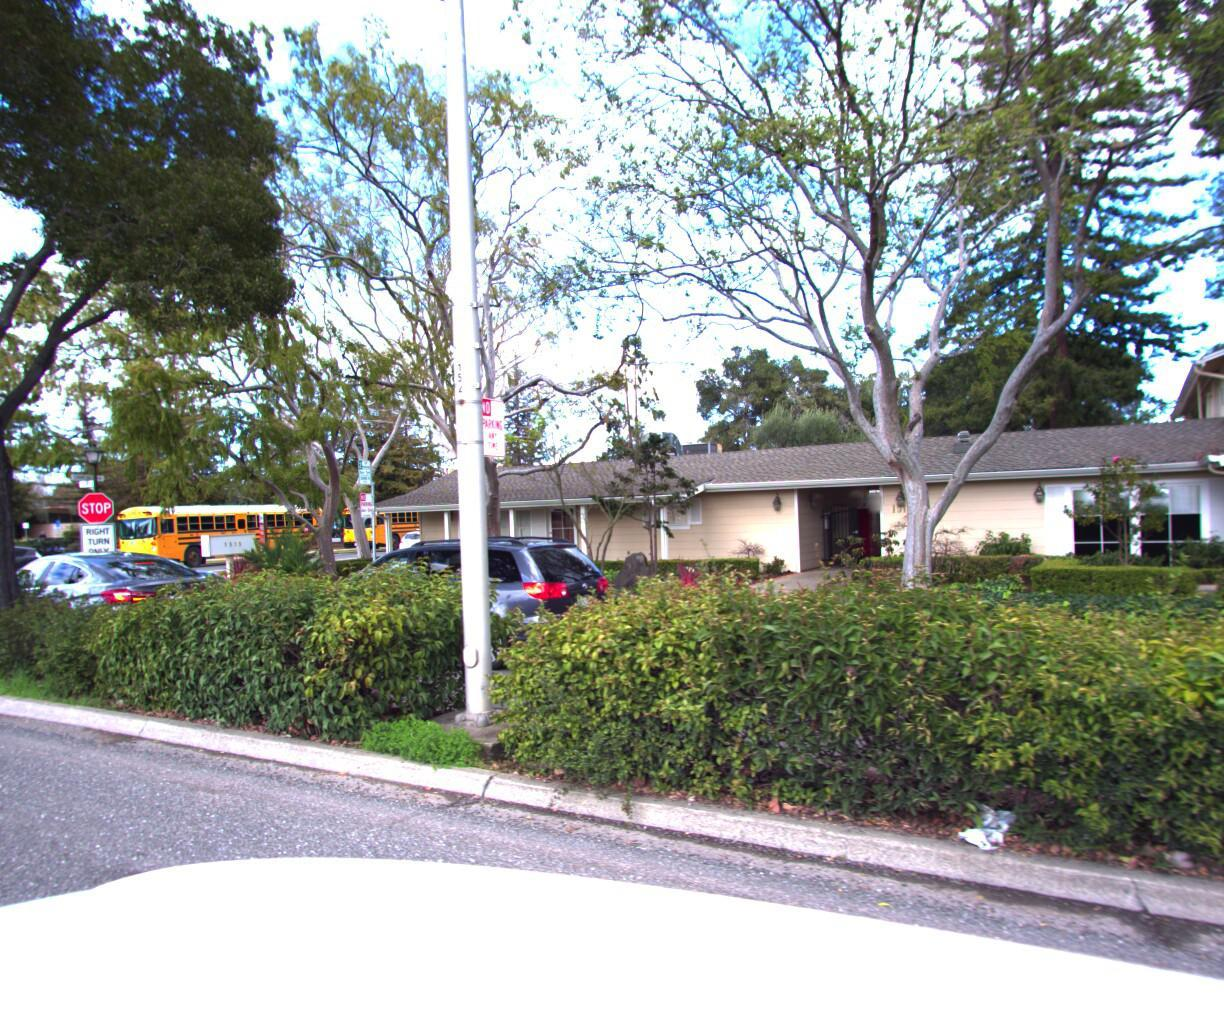bus: (104, 500, 336, 573), (333, 499, 479, 552)
car: (272, 523, 632, 674), (0, 540, 245, 684), (56, 560, 286, 654), (0, 541, 61, 587), (396, 524, 467, 558)
